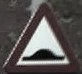Speed Breaker ahead: (5, 3, 73, 70)
